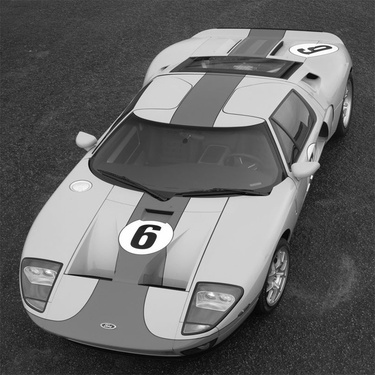car: (11, 22, 359, 362)
